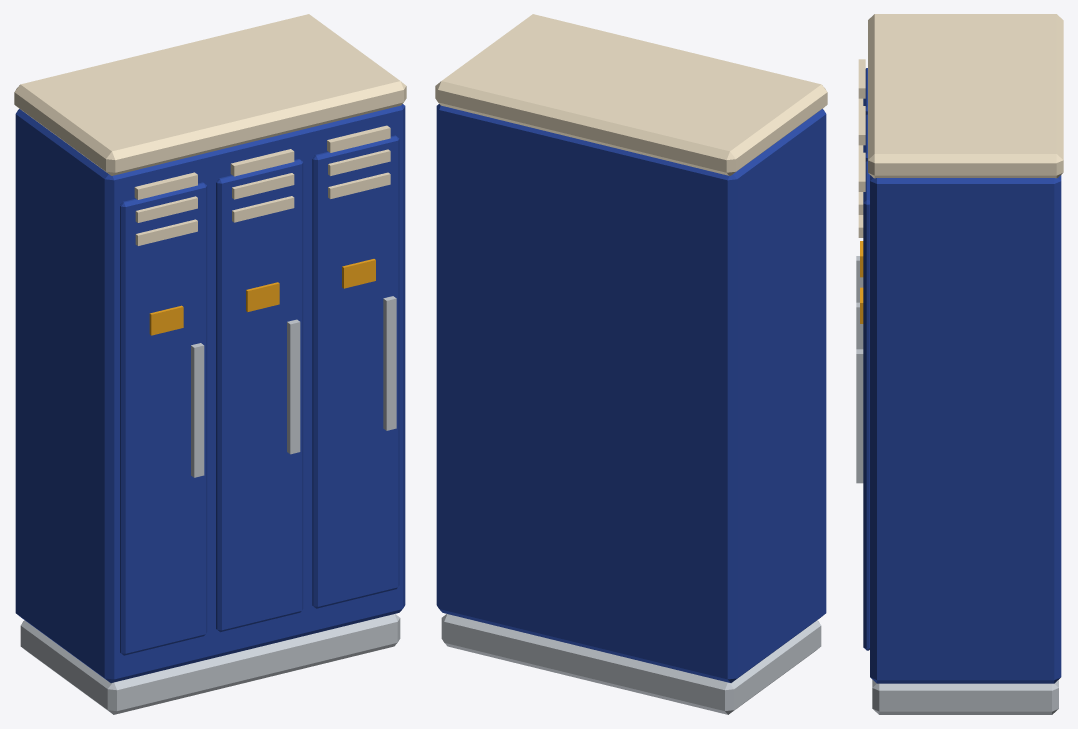
The model's file is locker.glb.
The picture shows the model from 3 angles, left to right: view 1: azimuth 30°, elevation 25°; view 2: azimuth 150°, elevation 25°; view 3: azimuth 270°, elevation 25°; orthographic projection.
Parts seen in each view (by area): view 1: cabinet, door_2, door_0, door_1, top_cap, plinth, handle_1, handle_0, handle_2, vent_1_2, vent_2_2, vent_0_2 (+9 smaller); view 2: cabinet, top_cap, plinth; view 3: cabinet, top_cap, plinth, door_2, handle_2.
Boxes of the visible parts, box(x1,y1,x2,y2) form: cabinet: box(15, 104, 405, 682); door_2: box(312, 135, 399, 608); door_0: box(120, 182, 207, 655); door_1: box(216, 159, 303, 632); top_cap: box(14, 14, 406, 175); plinth: box(20, 614, 400, 714); handle_1: box(287, 319, 300, 454); handle_0: box(191, 343, 204, 477); handle_2: box(383, 296, 396, 430); vent_1_2: box(230, 149, 294, 176); vent_2_2: box(327, 125, 390, 152); vent_0_2: box(134, 172, 197, 199); cabinet: box(436, 104, 826, 682); top_cap: box(435, 14, 827, 175); plinth: box(441, 614, 821, 714); cabinet: box(870, 175, 1061, 683); top_cap: box(868, 14, 1063, 178); plinth: box(872, 679, 1058, 714); door_2: box(863, 161, 869, 650); handle_2: box(856, 349, 863, 483).
Size of the model in its own units: 1.5 by 2.7 by 0.9.
